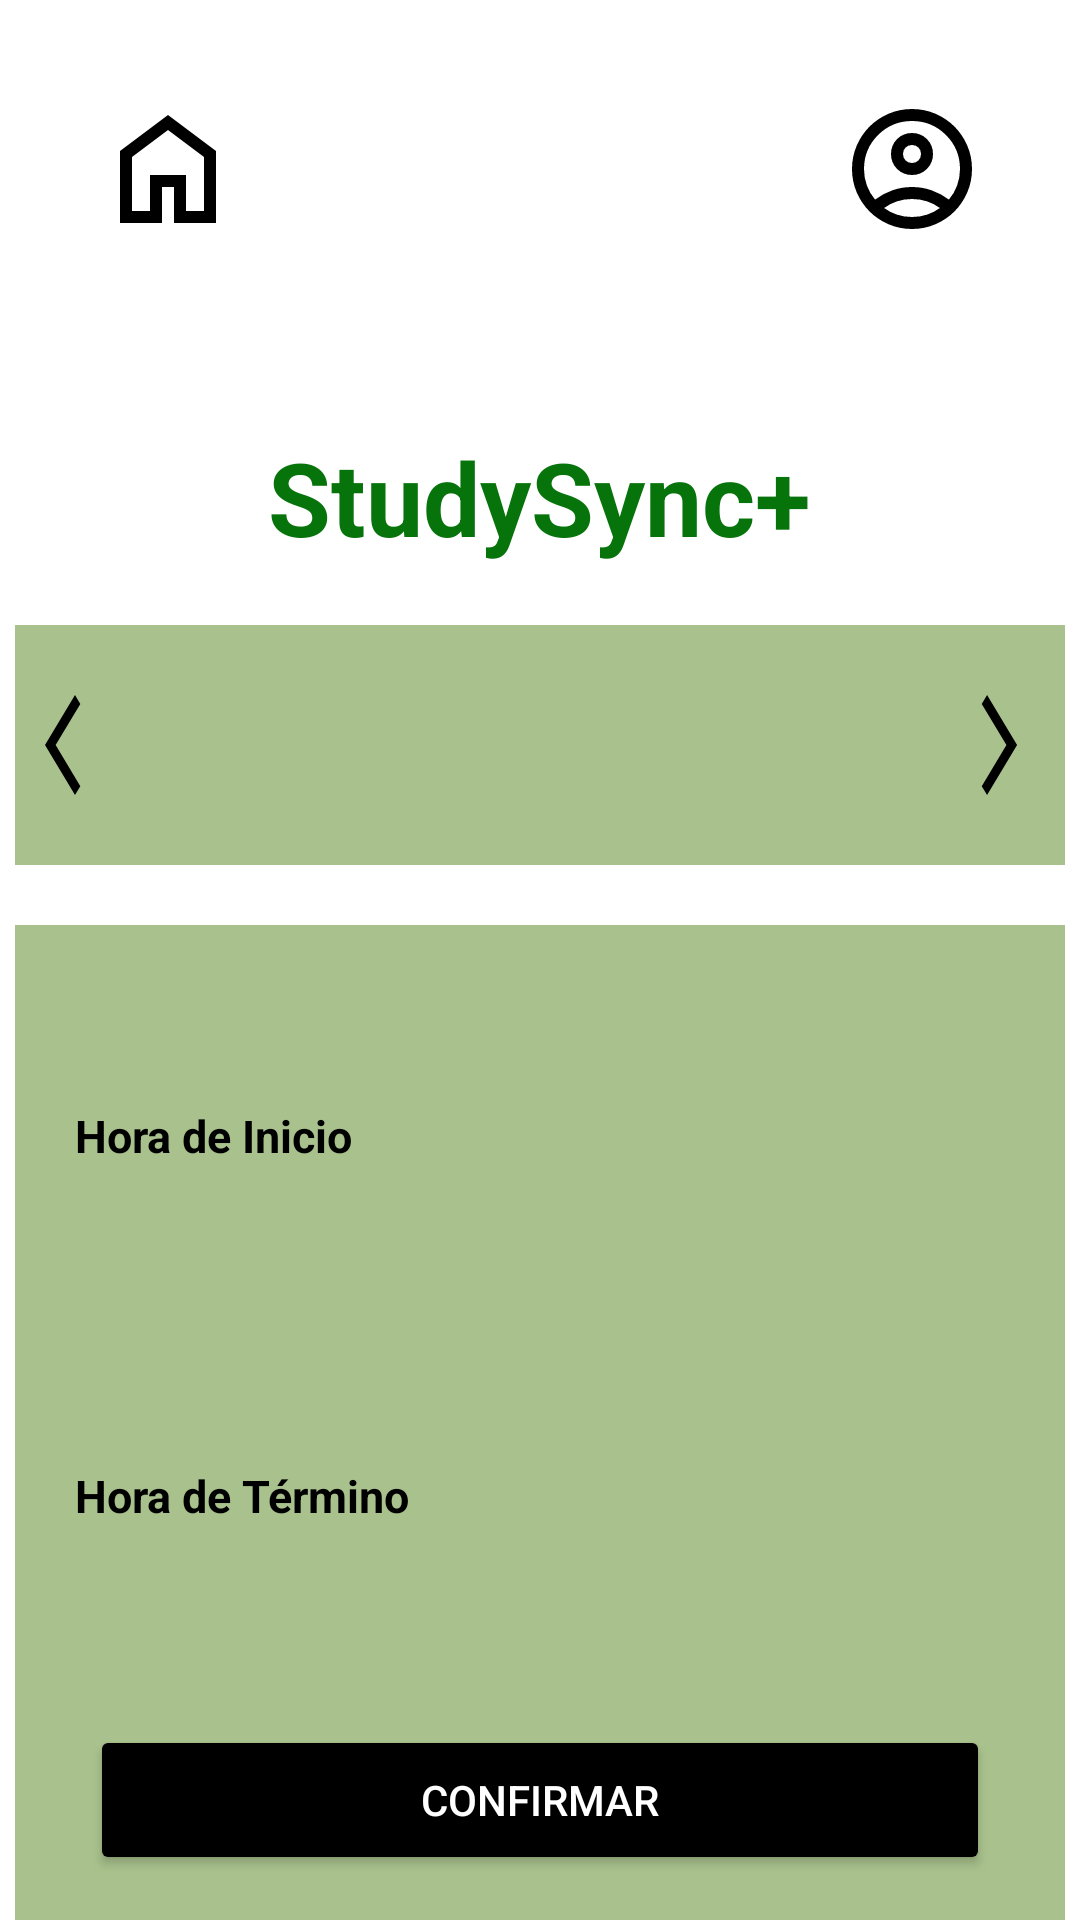

Icon click points for this 1080 × 1920 phone screenshot, format point (x, y):
arrow back: point (63, 745)
arrow foward: point (999, 745)
